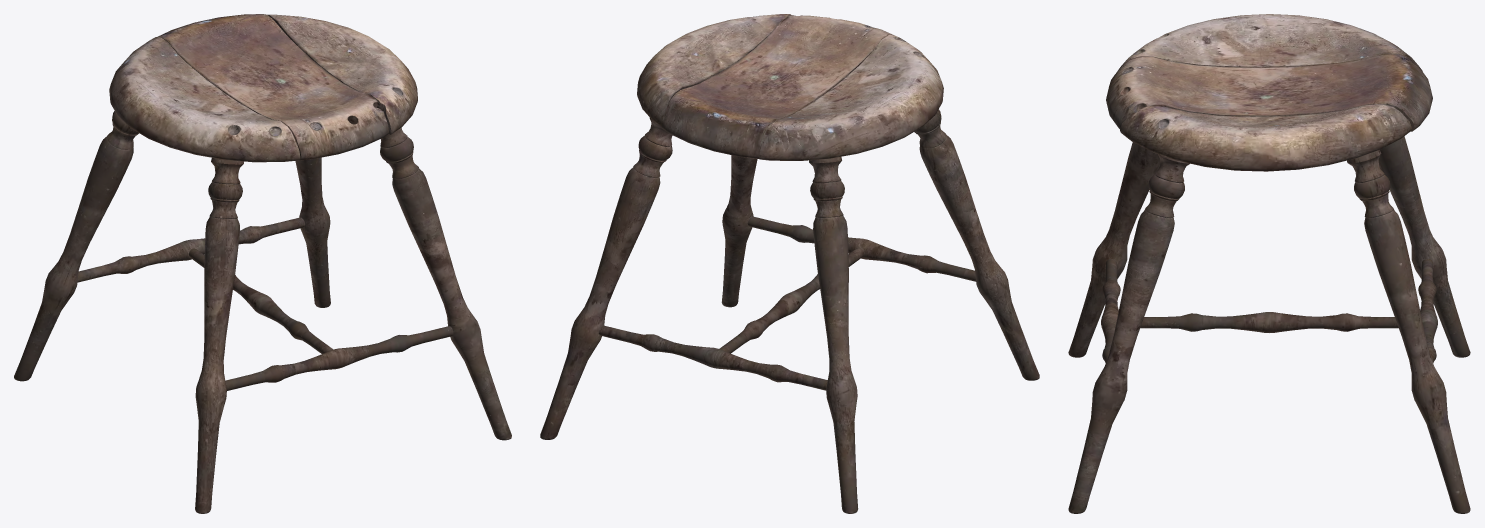
Rendered from Wooden Stool1.gltf.
3 views of the same model, side by side, from view 1: azimuth 30°, elevation 25°; view 2: azimuth 150°, elevation 25°; view 3: azimuth 270°, elevation 25° (orthographic). The views are drawn at different scales.
Parts seen in each view (by area): view 1: wooden_stool_01; view 2: wooden_stool_01; view 3: wooden_stool_01.
Boxes of the visible parts, box(x1,y1,x2,y2) form: wooden_stool_01: box(14, 14, 511, 513); wooden_stool_01: box(540, 14, 1039, 513); wooden_stool_01: box(1068, 14, 1470, 513).
Size of the model in its own units: 0.4254 by 0.4374 by 0.4424.
Materials: 1 (1 with a texture image).
